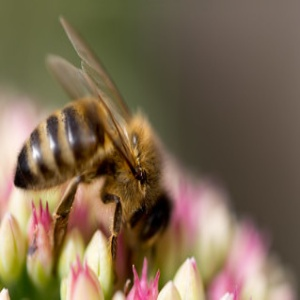bee: (13, 14, 172, 255)
